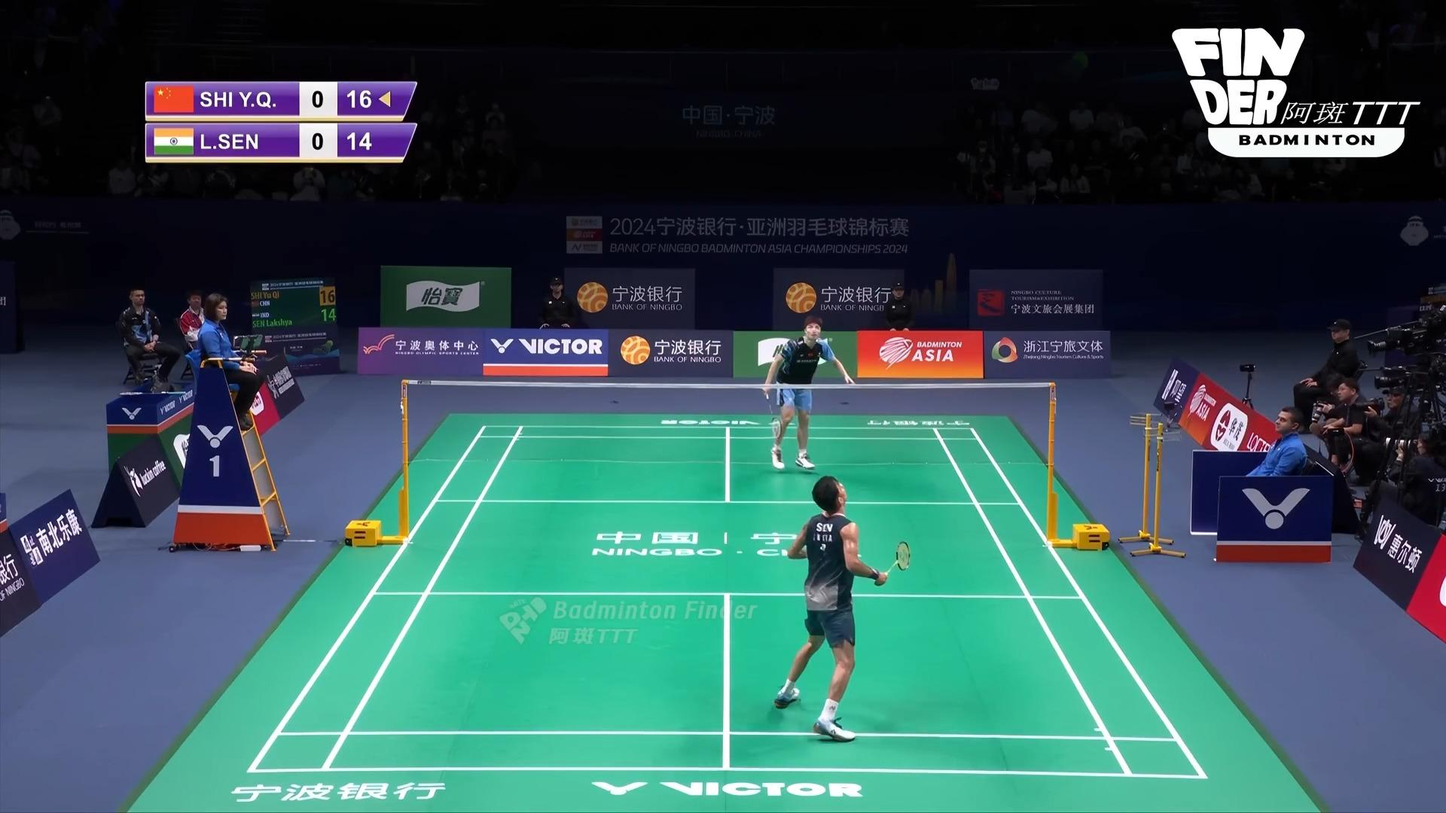player: (775, 476, 886, 743), (764, 314, 855, 470)
